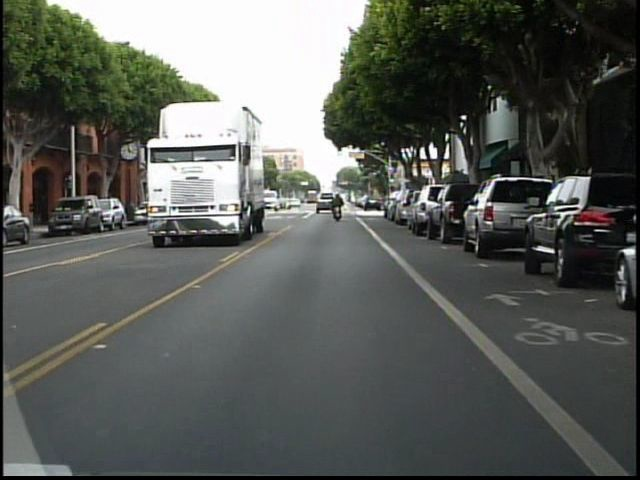person: (330, 192, 344, 223)
